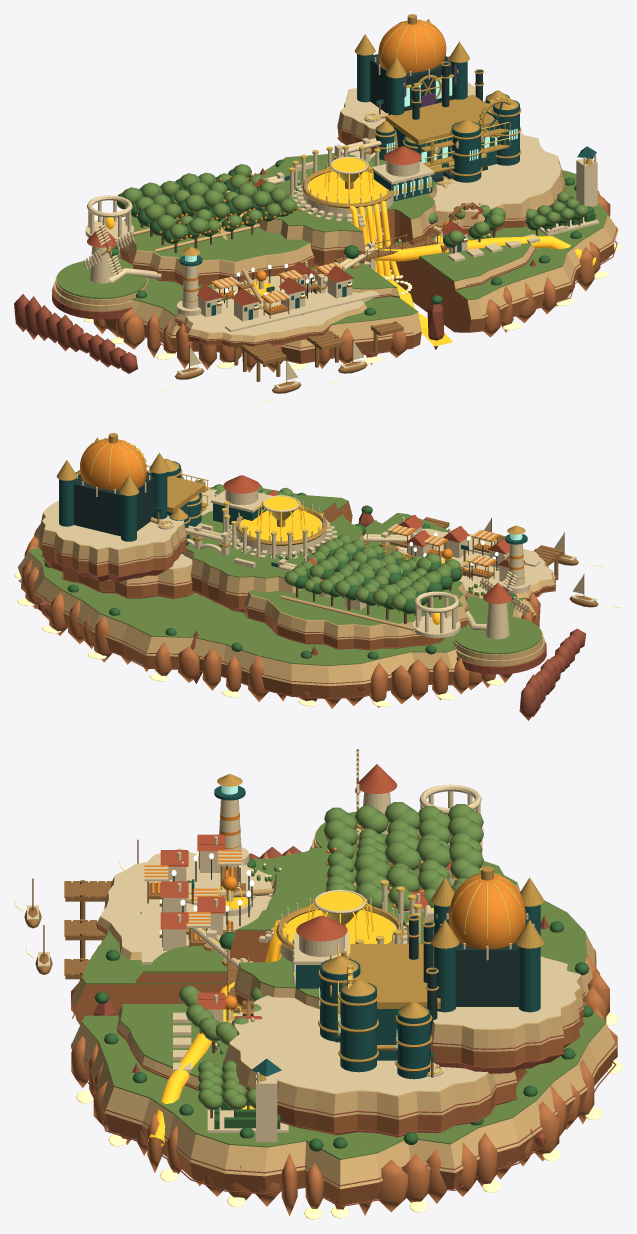
Rendered from imperio-delicia-v2.glb.
3 views of the same model, one above another, from view 1: azimuth 30°, elevation 25°; view 2: azimuth 150°, elevation 25°; view 3: azimuth 270°, elevation 25° (orthographic). The views are drawn at different scales.
Visible parts, largest first — view 1: Great citrus island foundation, Great citrus island foundation turf, Refinery foothill turf, Terraced orchard, Aqueduct heart, Terraced orchard turf, Orange delta turf, Harbor terrace turf, Guina gigantic orange dome, Aqueduct heart turf, Refinery tiled roof, Harbor terrace (+29 smaller); view 2: Great citrus island foundation turf, Great citrus island foundation, Guina crown rock, Terraced orchard, Terraced orchard turf, Aqueduct heart turf, Guina citadel hall, Guina gigantic orange dome, Aqueduct heart, Refinery foothill, Guina crown rock turf, Windmill peninsula lawn (+37 smaller); view 3: Great citrus island foundation, Great citrus island foundation turf, Refinery foothill, Refinery foothill turf, Guina crown rock, Orange delta turf, Harbor terrace turf, Guina gigantic orange dome, Guina citadel hall, Refinery tiled roof, Guina crown rock turf, Terraced orchard turf (+28 smaller).
Part boxes in pixels (x1,y1,x2,y2): Great citrus island foundation: (104, 190, 618, 362); Great citrus island foundation turf: (112, 153, 607, 325); Refinery foothill turf: (349, 132, 560, 211); Terraced orchard: (119, 238, 317, 285); Aqueduct heart: (246, 185, 437, 266); Terraced orchard turf: (131, 216, 310, 261); Orange delta turf: (331, 226, 535, 289); Harbor terrace turf: (187, 275, 364, 335); Guina gigantic orange dome: (378, 20, 446, 72); Aqueduct heart turf: (260, 154, 435, 232); Refinery tiled roof: (385, 94, 498, 144); Harbor terrace: (175, 298, 372, 346); Great citrus island foundation turf: (28, 487, 524, 665); Great citrus island foundation: (18, 502, 536, 698); Guina crown rock: (39, 513, 186, 581); Terraced orchard: (244, 583, 468, 650); Terraced orchard turf: (249, 548, 463, 625); Aqueduct heart turf: (185, 511, 366, 578); Guina citadel hall: (74, 472, 154, 536); Guina gigantic orange dome: (80, 438, 146, 490); Aqueduct heart: (183, 531, 366, 612); Refinery foothill: (45, 558, 193, 598); Guina crown rock turf: (42, 501, 183, 549); Windmill peninsula lawn: (453, 616, 541, 654); Great citrus island foundation: (71, 934, 616, 1205); Great citrus island foundation turf: (81, 851, 605, 1159); Refinery foothill: (223, 1025, 525, 1137); Refinery foothill turf: (229, 995, 487, 1095); Guina crown rock: (430, 965, 584, 1073); Orange delta turf: (120, 945, 240, 1077); Harbor terrace turf: (100, 848, 271, 956); Guina gigantic orange dome: (448, 873, 525, 949); Guina citadel hall: (445, 913, 529, 1006); Refinery tiled roof: (350, 944, 440, 1008); Guina crown rock turf: (433, 956, 580, 1028); Terraced orchard turf: (268, 833, 517, 908).
Bounding box in the file's own units: 46.96 × 16.93 × 33.1.
